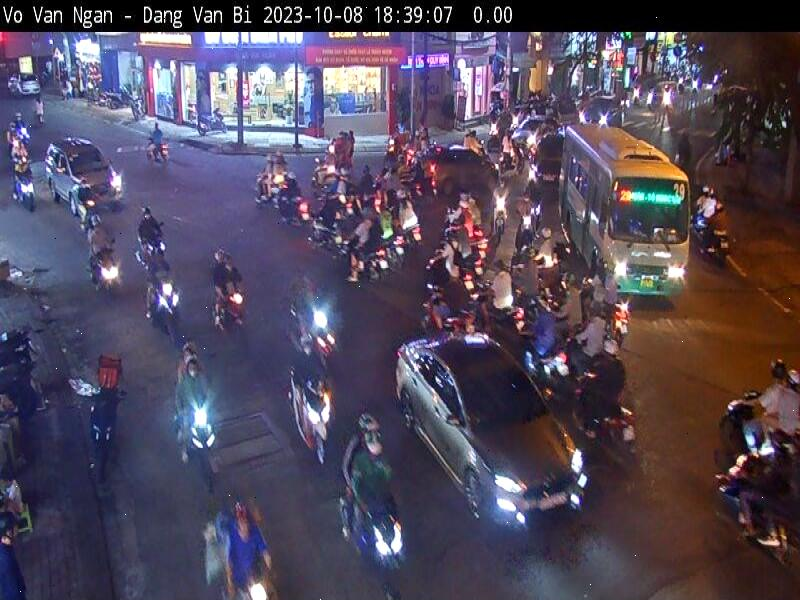bus: (557, 126, 692, 295)
car: (393, 335, 589, 542)
